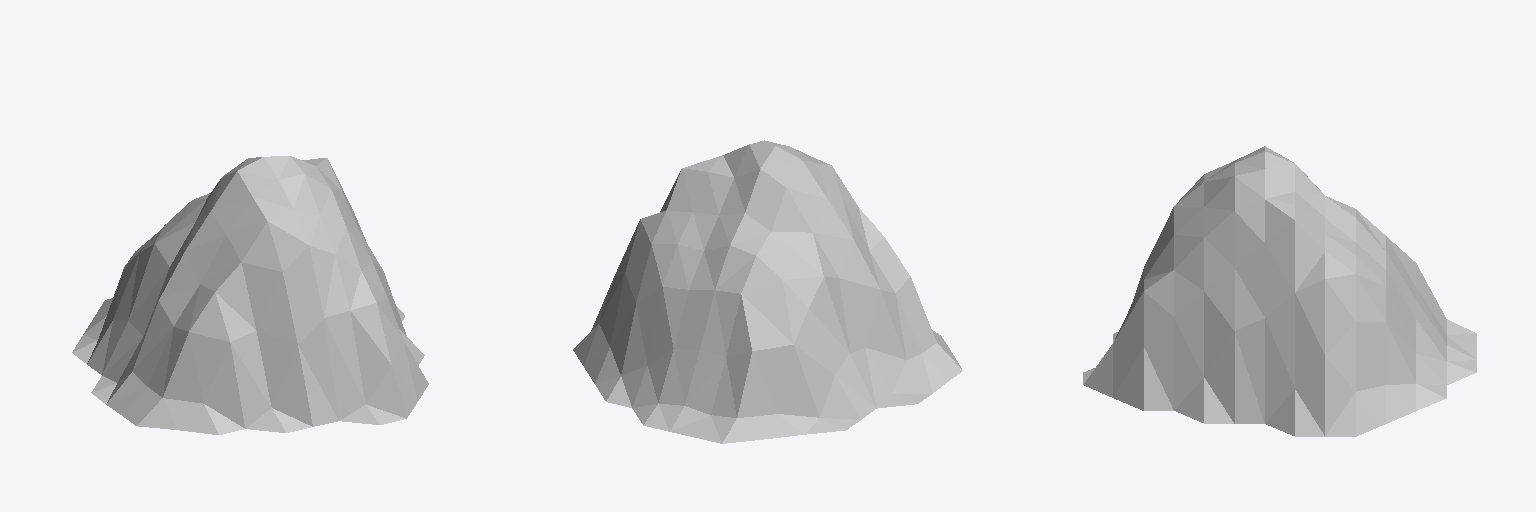
File: tree_15.obj
3 views of the same model, side by side, from view 1: azimuth 30°, elevation 25°; view 2: azimuth 150°, elevation 25°; view 3: azimuth 270°, elevation 25° (orthographic).
Parts seen in each view (by area): view 1: tree_15_minus_dtm; view 2: tree_15_minus_dtm; view 3: tree_15_minus_dtm.
Part boxes in pixels (x1,y1,x2,y2): tree_15_minus_dtm: (72,156,428,434); tree_15_minus_dtm: (573,140,962,443); tree_15_minus_dtm: (1083,146,1476,436).
Size of the model in its own units: 12 by 7.62 by 13.